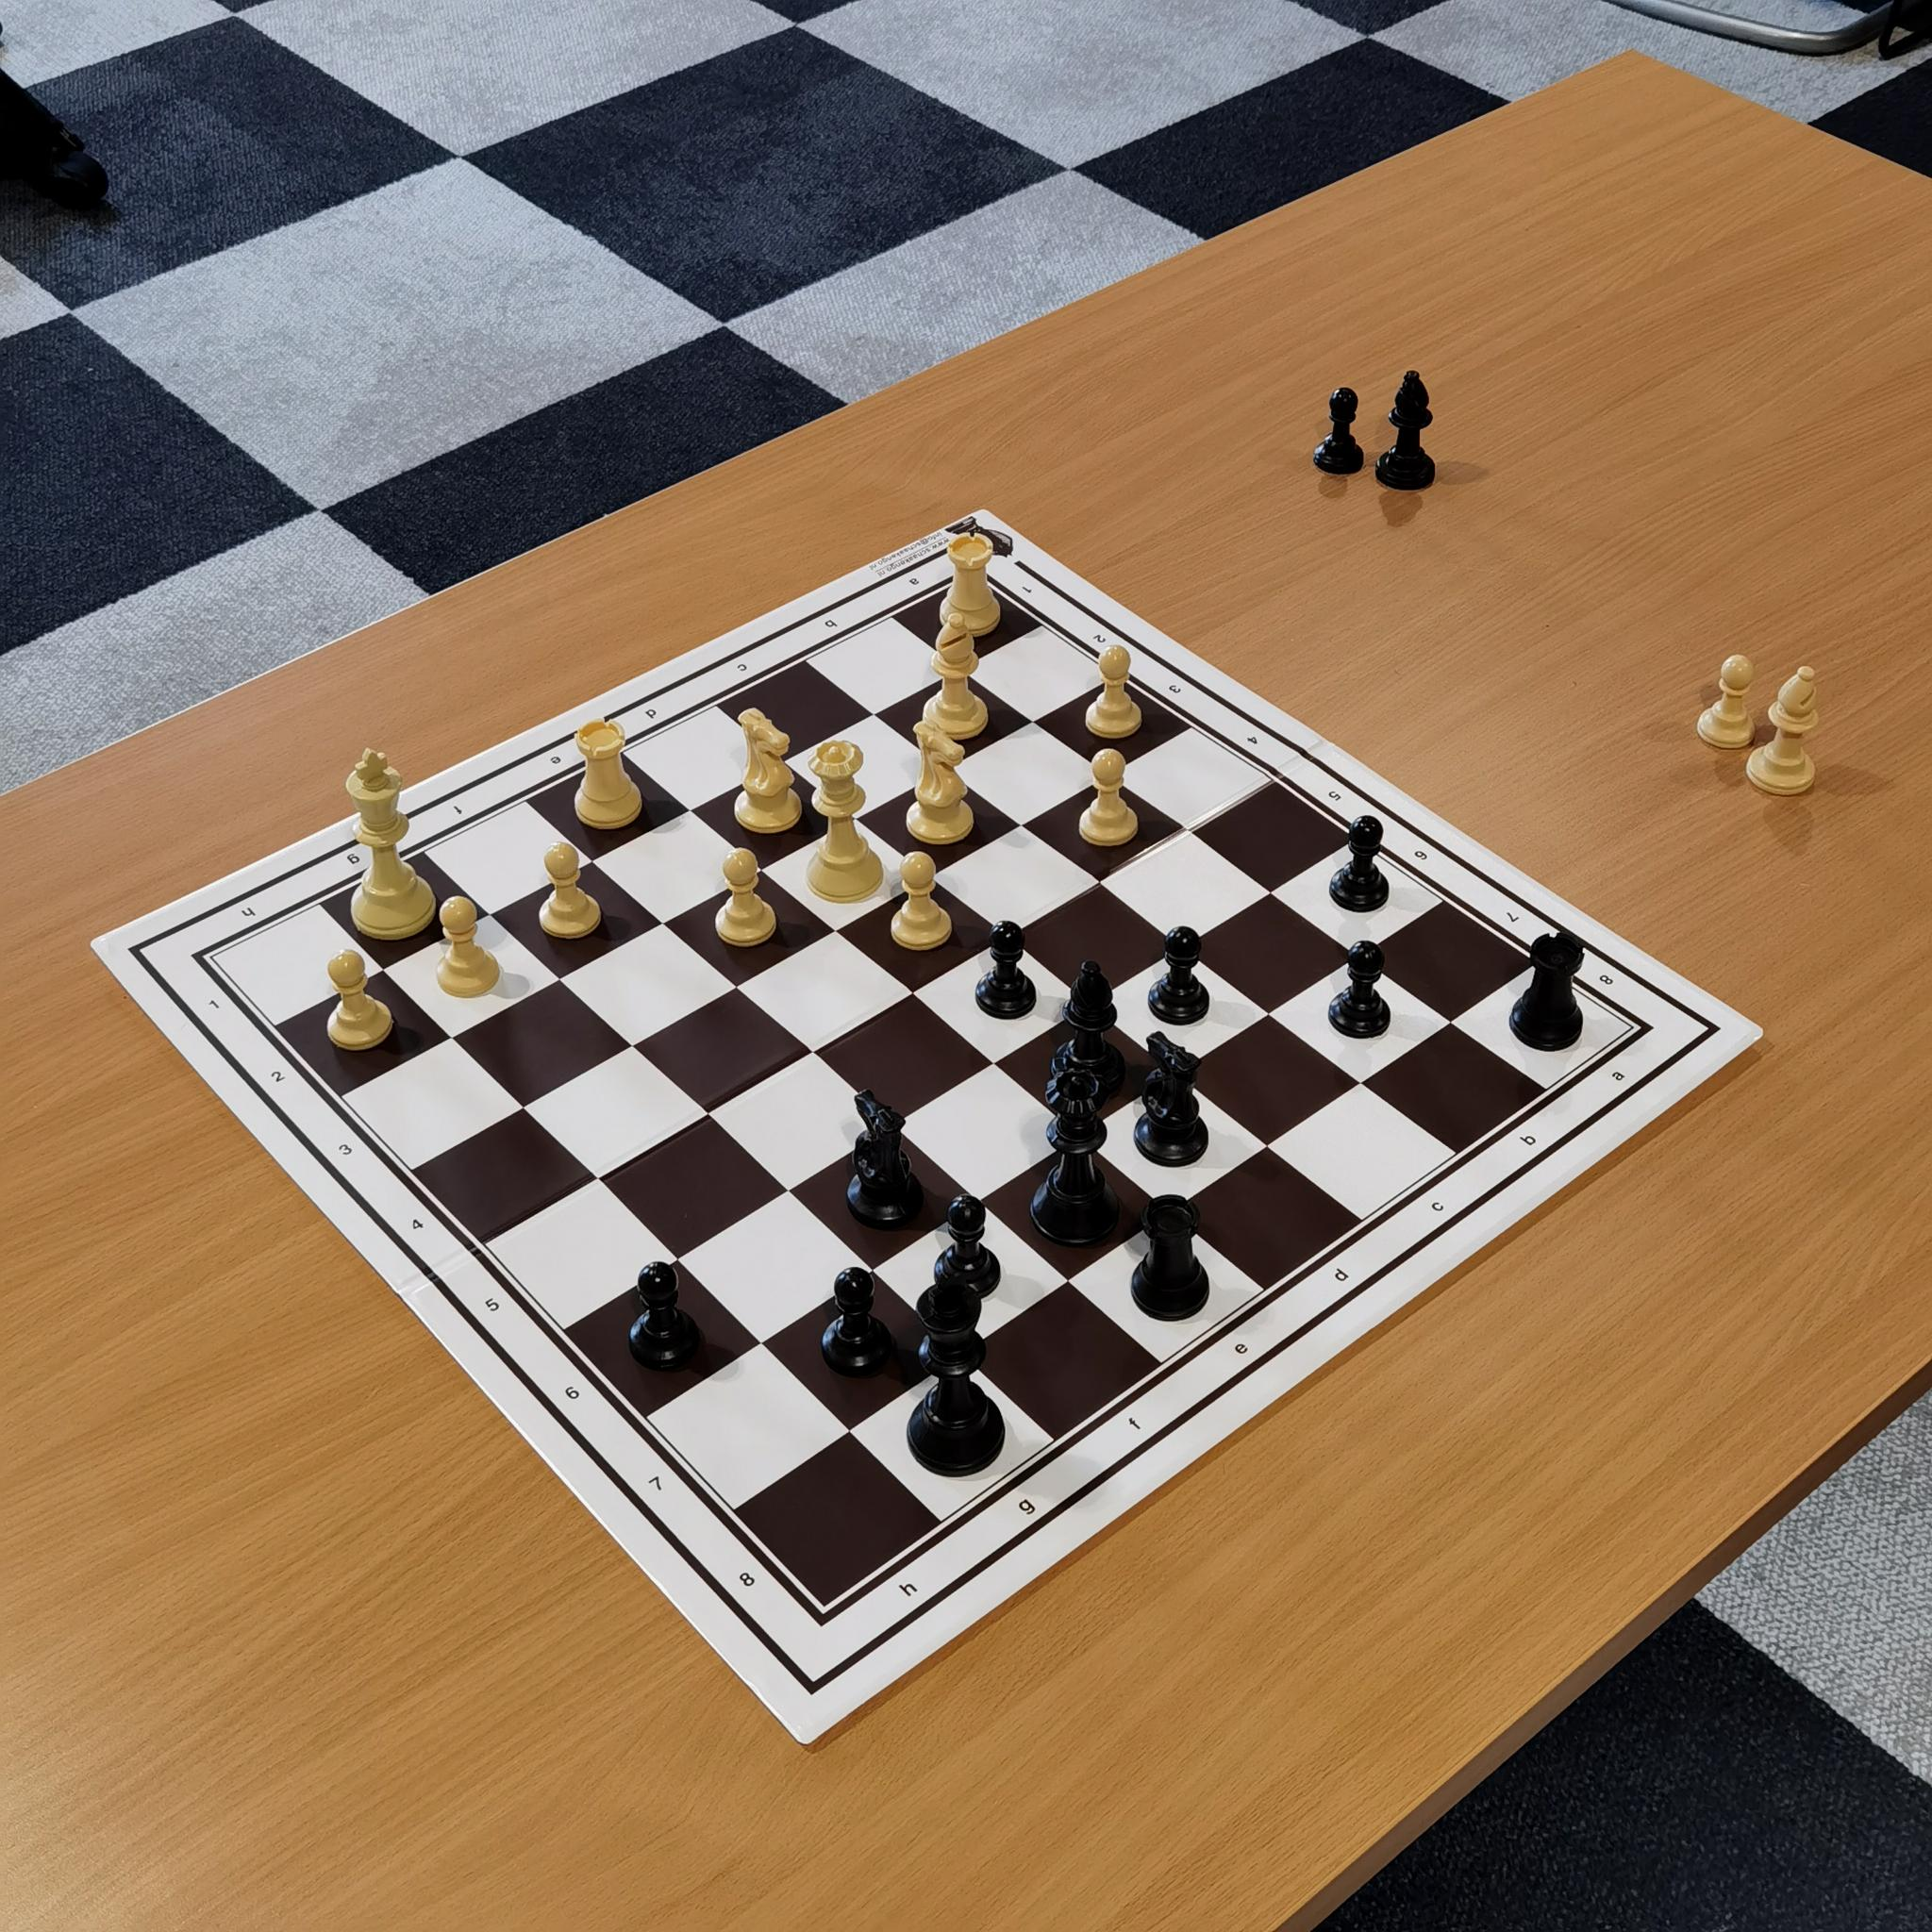corners: (797, 1588, 856, 1637), (1605, 1010, 1666, 1053), (941, 551, 995, 598), (179, 939, 237, 980)
eight: (728, 1561, 772, 1606), (1592, 963, 1628, 995)
one: (193, 977, 234, 1028), (1012, 568, 1048, 608)
